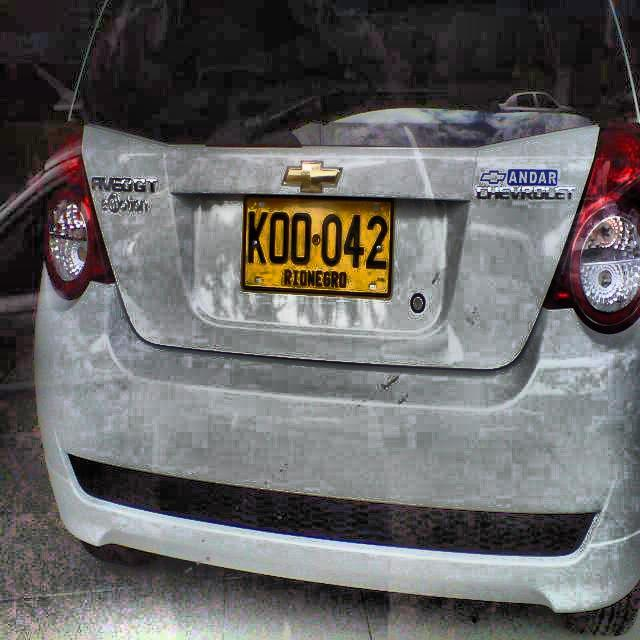plate: (243, 198, 392, 297)
